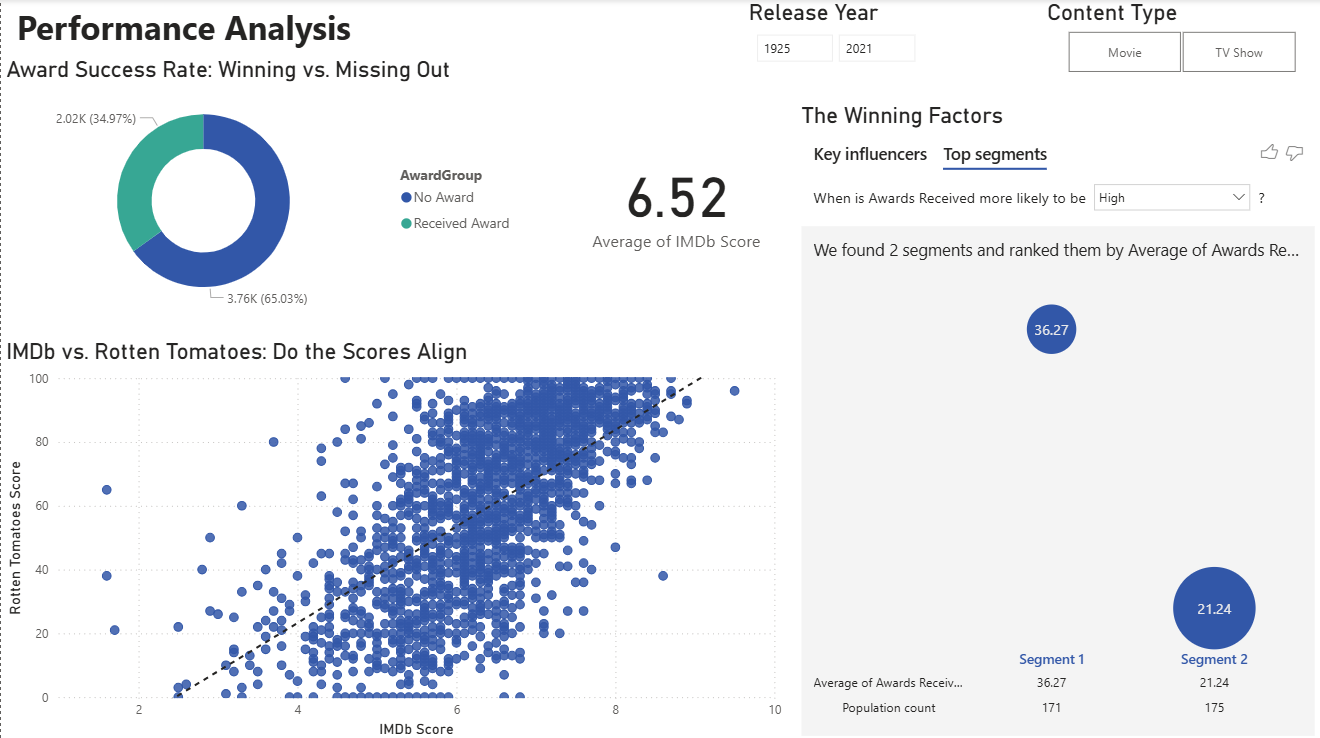

Layout of this report page (visuals, bound fields, positions):
{"tool":"powerbi","page":{"name":"3. Performance Analysis","canvas":[1280,720],"ordinal":3},"visuals":[{"type":"textbox","box":[10.2,0,649.2,78],"z":0},{"type":"scatterChart","title":"IMDb vs. Rotten Tomatoes: Do the Scores Align","fields":{"X":["Filtered_Rotten_Tomatoes.IMDb Score"],"Y":["Filtered_Rotten_Tomatoes.Rotten Tomatoes Score"]},"box":[0,329.1,762.1,391.2],"z":1000},{"type":"donutChart","title":"Award Success Rate: Winning vs. Missing Out ","fields":{"Category":["Filtered_Rotten_Tomatoes.AwardGroup"],"Y":["CountNonNull(Filtered_Rotten_Tomatoes.Title)"]},"box":[0,54.8,508.1,255.5],"z":2000},{"type":"slicer","title":"Content Type","fields":{"Values":["Filtered_Netflix.Type"]},"box":[1010.4,0,269.9,77.9],"z":3000},{"type":"slicer","title":"Release Year","fields":{"Values":["Filtered_Netflix.Release year"]},"box":[720.3,0,265.6,77.9],"z":4000},{"type":"keyDriversVisual","title":"The Winning Factors","fields":{"Target":["Filtered_Rotten_Tomatoes.Awards Received"],"ExplainBy":["Sum(Filtered_Rotten_Tomatoes.IMDb Score)","Sum(Filtered_Rotten_Tomatoes.IMDb Votes)","Filtered_Rotten_Tomatoes.TopGenre","Filtered_Netflix.Director","Filtered_Netflix.Duration Type"]},"box":[772.1,100,508.1,619.8],"z":5000},{"type":"card","fields":{"Values":["Avg(Filtered_Rotten_Tomatoes.IMDb Score)"]},"box":[548.8,90.7,212.8,210.5],"z":6000}]}

Visuals, with their boxes in screenshot pixels (x1, y1, x2, y2), scaled from the page's 1280x720 canvas onto the 1320x738 screenshot:
textbox: <region>11, 0, 680, 80</region>
"IMDb vs. Rotten Tomatoes: Do the Scores Align" scatterChart: <region>0, 337, 786, 737</region>
"Award Success Rate: Winning vs. Missing Out " donutChart: <region>0, 56, 524, 318</region>
"Content Type" slicer: <region>1042, 0, 1319, 80</region>
"Release Year" slicer: <region>743, 0, 1017, 80</region>
"The Winning Factors" keyDriversVisual: <region>796, 102, 1319, 737</region>
card - Avg(Filtered_Rotten_Tomatoes.IMDb Score): <region>566, 93, 785, 309</region>
